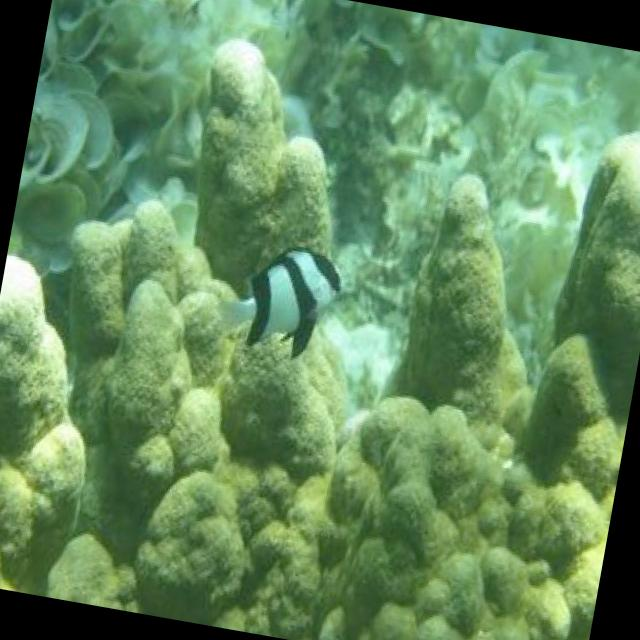Three_striped DasmselFish: (222, 230, 351, 367)
